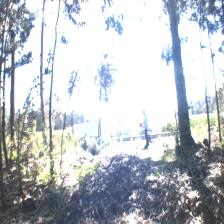trunktrack_idkeyframe: (170, 31, 196, 143), (49, 80, 54, 138), (39, 43, 44, 100), (10, 76, 15, 126)
